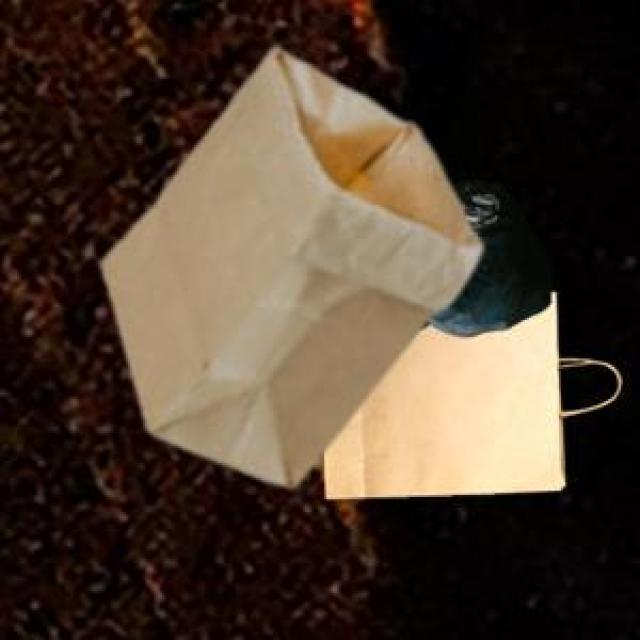miscellaneous trash: (416, 177, 548, 333)
paper: (98, 45, 478, 482), (320, 288, 574, 495)
